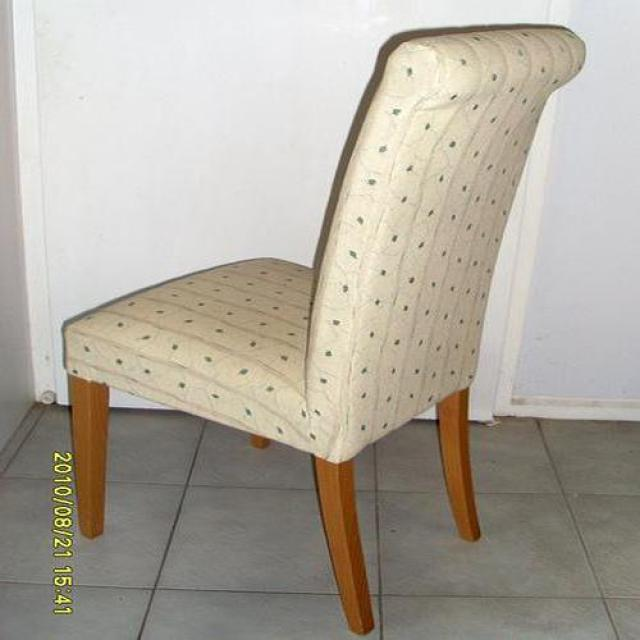chair: (60, 24, 588, 640)
